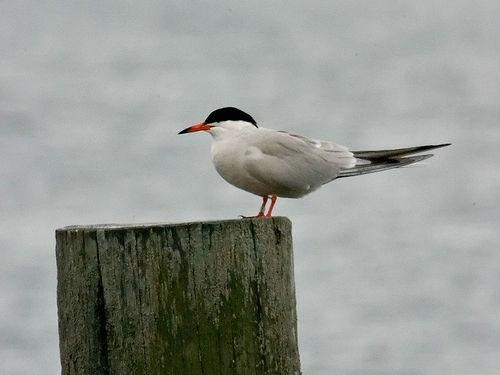bird: (177, 106, 450, 222)
